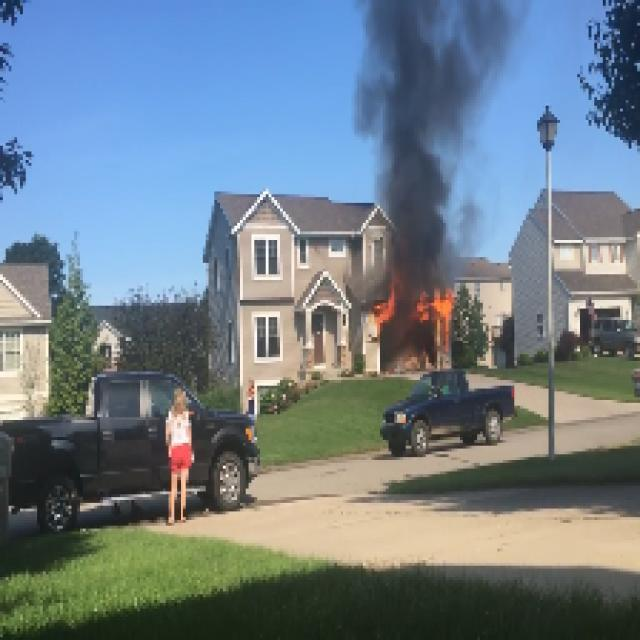Smoke: (345, 0, 536, 304)
